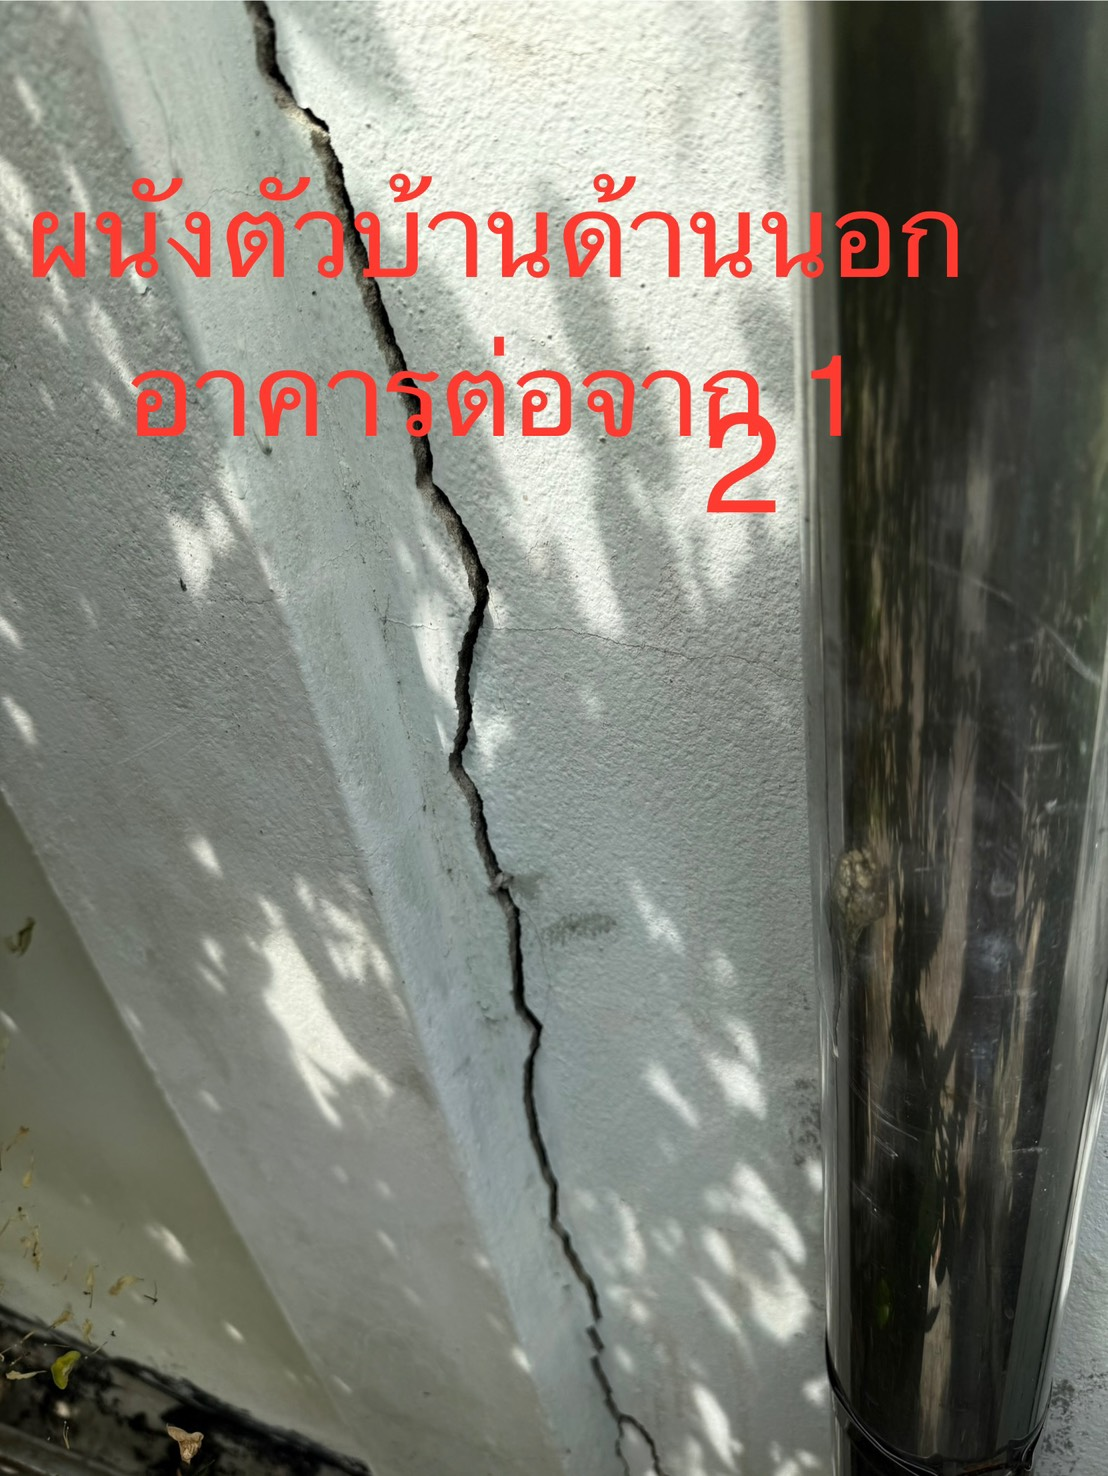High: (365, 449, 697, 1476)
